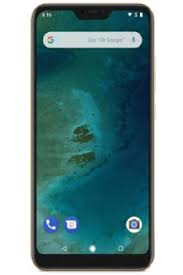mi: (28, 2, 155, 271)
